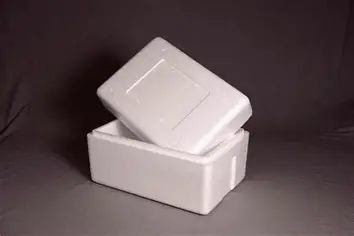ROAD_OBSTACLE: (88, 35, 252, 215)
